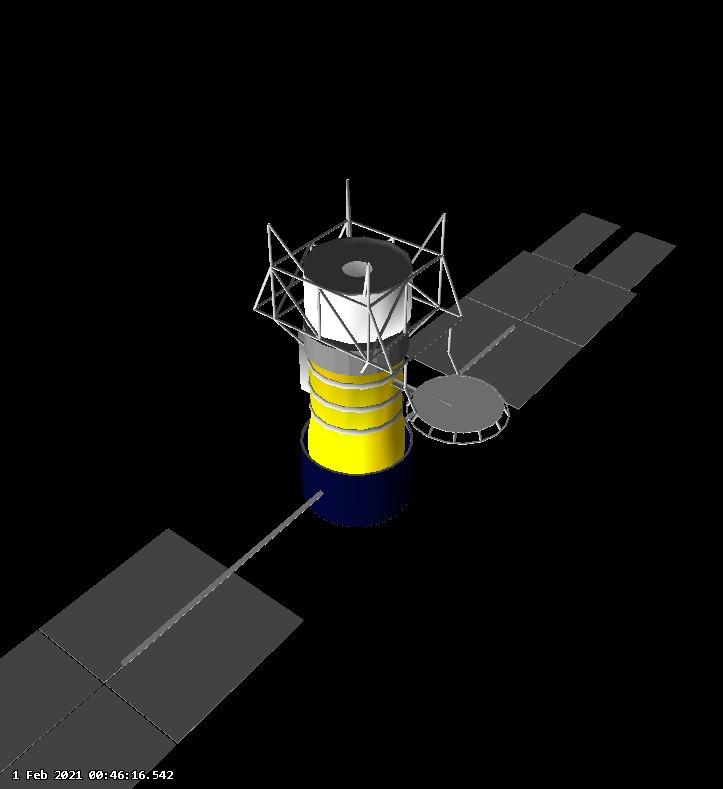antenna: (413, 374, 504, 438)
body: (299, 239, 413, 527)
solar: (0, 526, 307, 789), (400, 249, 638, 411), (297, 448, 417, 528), (532, 210, 620, 270), (589, 231, 677, 291)
